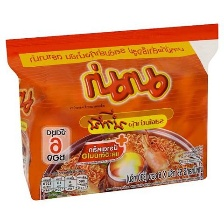snack: (0, 14, 224, 205)
